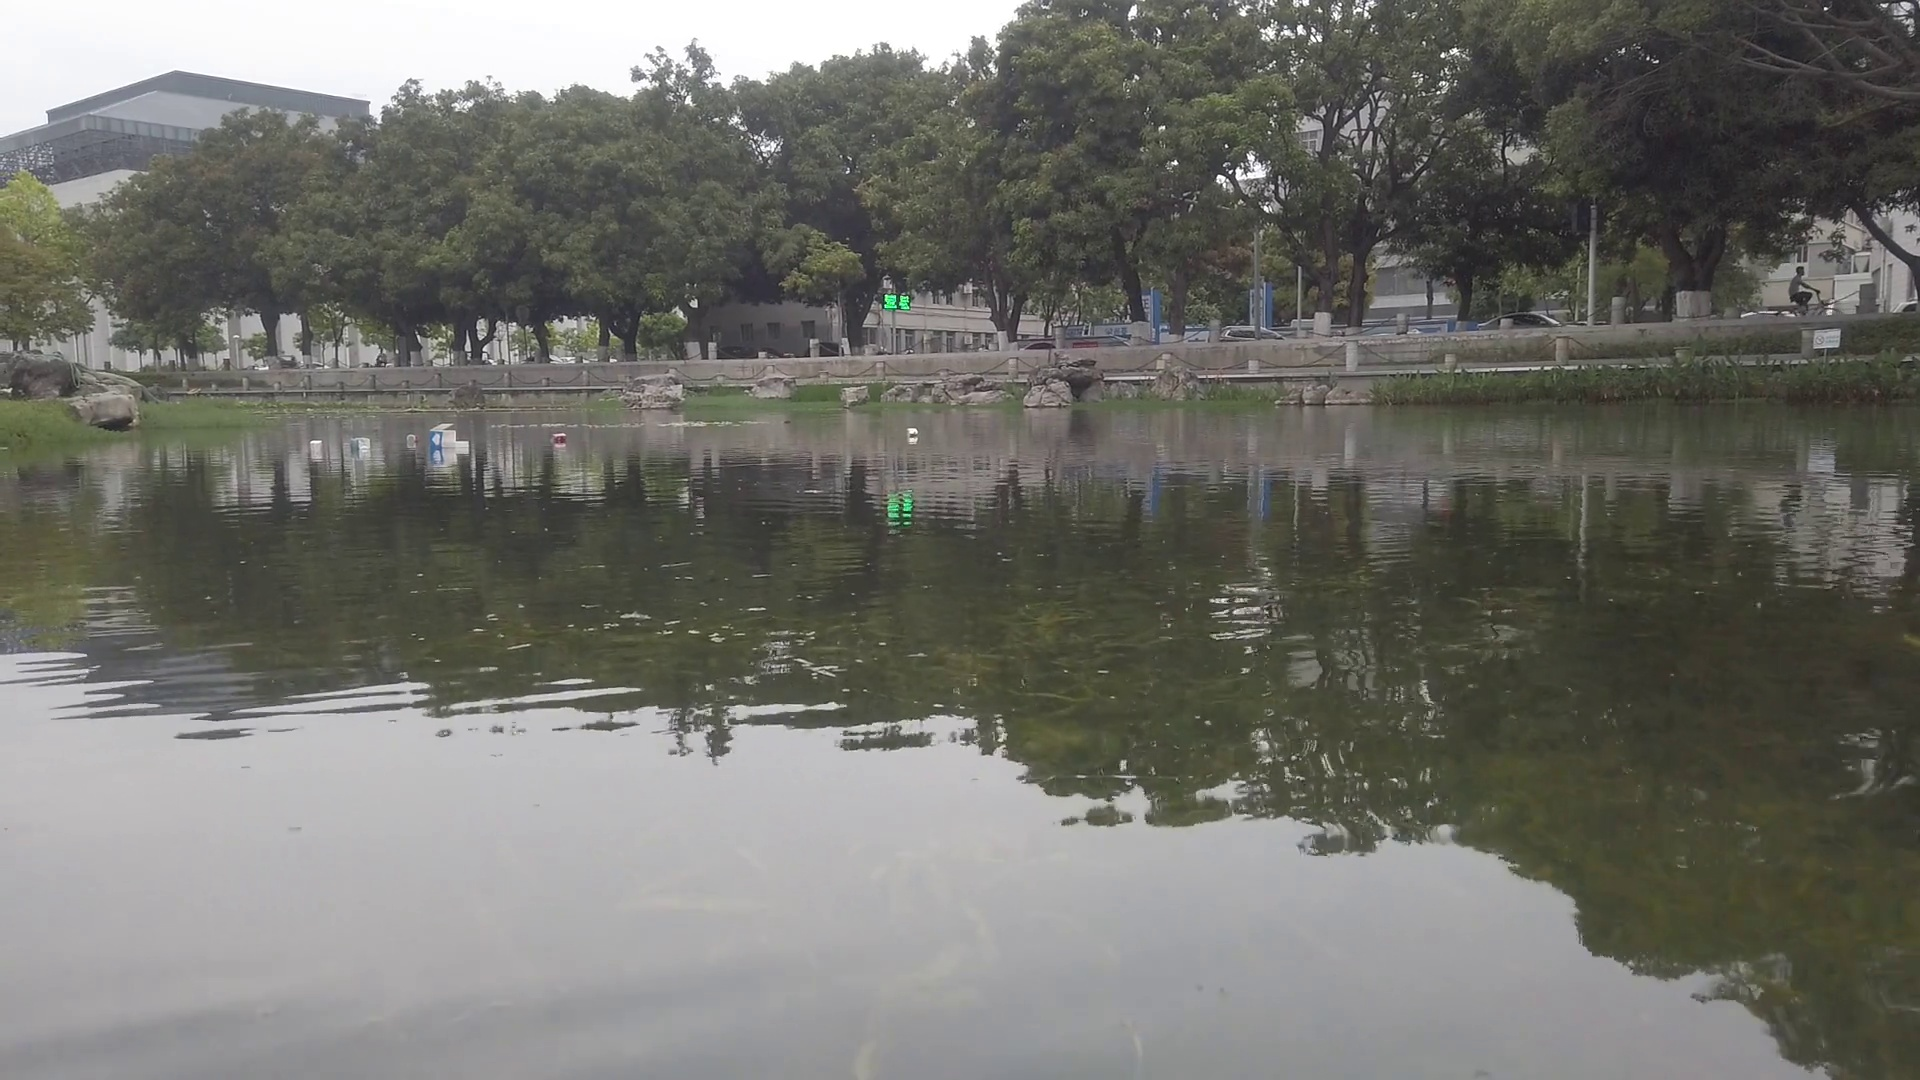bottle: (549, 433, 567, 444), (406, 433, 417, 444)
carton: (431, 425, 463, 448), (348, 436, 375, 454), (309, 438, 324, 459), (907, 427, 919, 436)
